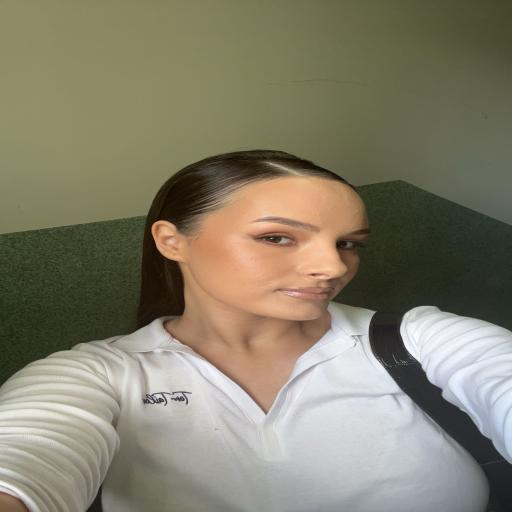marija: (183, 178, 375, 322)
